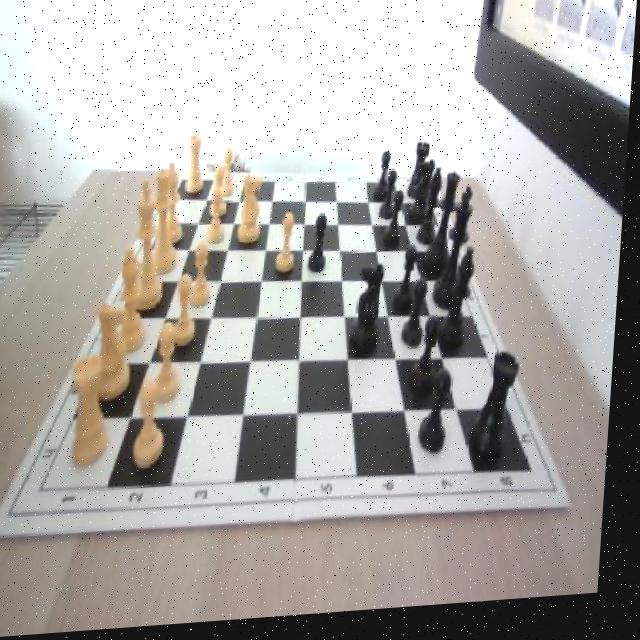bishop: (444, 254, 481, 357), (421, 172, 446, 254)
black-bishop: (436, 191, 478, 319)
black-king: (354, 264, 389, 360), (413, 166, 438, 228)
black-knight: (424, 375, 457, 461), (416, 323, 446, 402), (405, 285, 432, 355), (398, 250, 422, 319), (312, 217, 334, 279), (387, 196, 409, 254), (377, 156, 395, 207), (382, 175, 399, 228)
black-pawn: (426, 177, 465, 284)
black-queen: (474, 357, 526, 467), (411, 148, 433, 206)
black-rook: (115, 248, 157, 356), (163, 164, 190, 247)
white-bishop: (127, 182, 173, 316)
white-king: (95, 302, 140, 405), (239, 178, 268, 245)
white-knight: (137, 383, 175, 475), (155, 322, 191, 408), (173, 275, 205, 353), (190, 245, 218, 314), (278, 219, 302, 279), (208, 192, 230, 250), (220, 150, 241, 201), (213, 169, 233, 220)
white-pawn: (148, 170, 186, 278)
white-queen: (72, 355, 118, 470), (187, 137, 209, 200)
